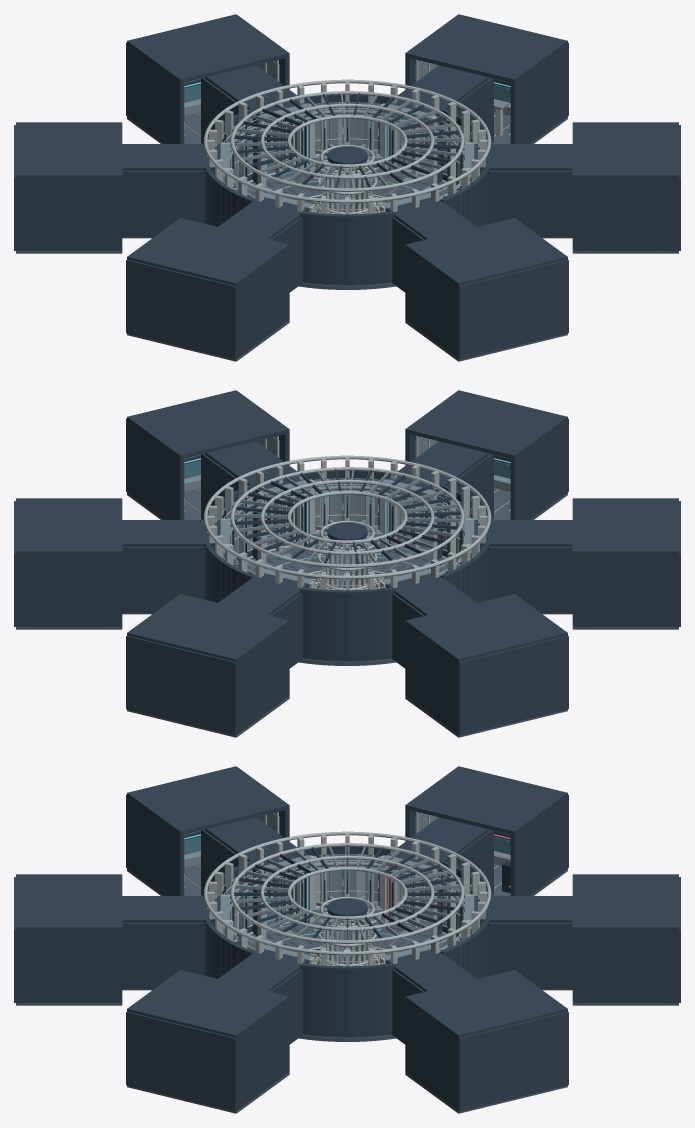
The model's file is reactor_facility.glb.
The picture shows the model from 3 angles, top to bottom: view 1: azimuth 30°, elevation 25°; view 2: azimuth 150°, elevation 25°; view 3: azimuth 270°, elevation 25°; orthographic projection.
Parts seen in each view (by area): view 1: dark, chrome, steel, deck, black, blue, glass; view 2: dark, chrome, steel, deck, black, blue, glass; view 3: dark, chrome, steel, deck, black, glass, blue.
Boxes of the visible parts, x1=… form: dark: x1=14, y1=14, x2=680, y2=359; chrome: x1=184, y1=60, x2=510, y2=214; steel: x1=184, y1=61, x2=510, y2=213; deck: x1=16, y1=112, x2=678, y2=361; black: x1=184, y1=81, x2=510, y2=189; blue: x1=184, y1=82, x2=510, y2=213; glass: x1=184, y1=84, x2=510, y2=208; dark: x1=14, y1=390, x2=680, y2=735; chrome: x1=184, y1=436, x2=510, y2=590; steel: x1=184, y1=437, x2=510, y2=589; deck: x1=16, y1=488, x2=678, y2=737; black: x1=184, y1=457, x2=510, y2=565; blue: x1=184, y1=458, x2=510, y2=589; glass: x1=184, y1=460, x2=510, y2=584; dark: x1=14, y1=766, x2=680, y2=1111; chrome: x1=184, y1=812, x2=501, y2=966; steel: x1=184, y1=813, x2=510, y2=965; deck: x1=16, y1=864, x2=678, y2=1113; black: x1=184, y1=833, x2=510, y2=941; glass: x1=184, y1=836, x2=510, y2=960; blue: x1=184, y1=834, x2=470, y2=965.
Size of the model in its own units: 81.27 by 12.43 by 84.6.
